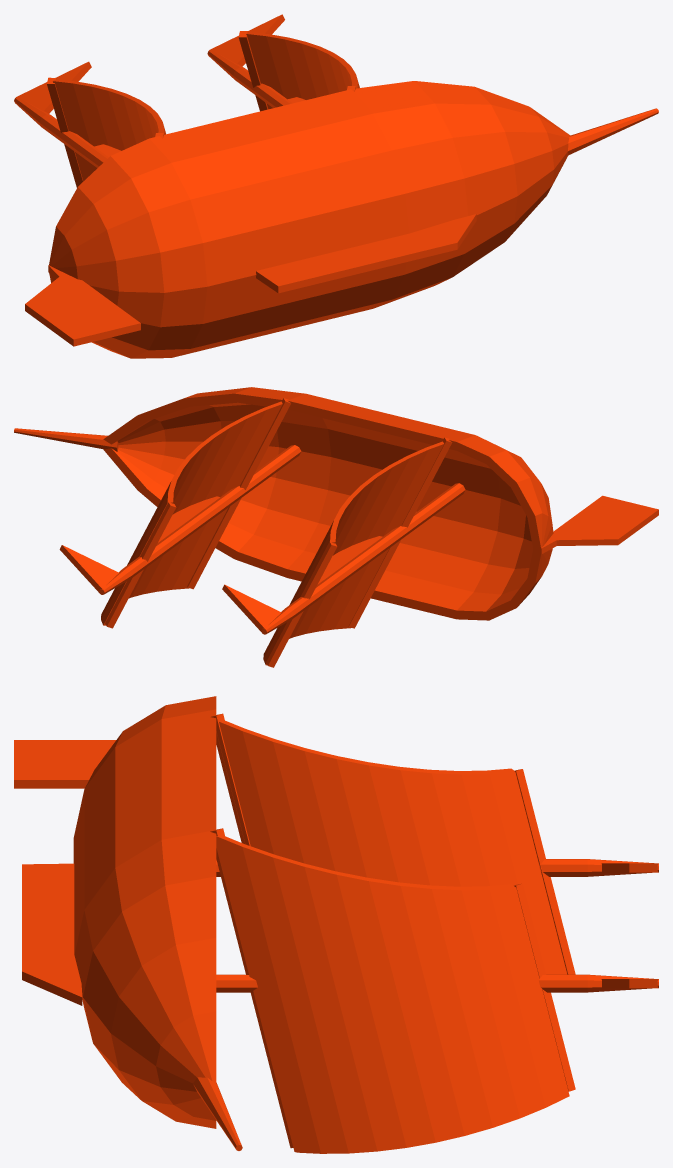
The model's file is ship.obj.
The picture shows the model from 3 angles, top to bottom: view 1: azimuth 30°, elevation 25°; view 2: azimuth 150°, elevation 25°; view 3: azimuth 270°, elevation 25°; orthographic projection. The views are drawn at different scales.
Parts seen in each view (by area): view 1: Ship; view 2: Ship; view 3: Ship.
Part boxes in pixels (<box>): Ship: <box>14,14,658,358</box>; Ship: <box>14,387,658,667</box>; Ship: <box>14,696,658,1153</box>.
Bounding box in the file's own units: 2.21 × 0.6926 × 1.49.
